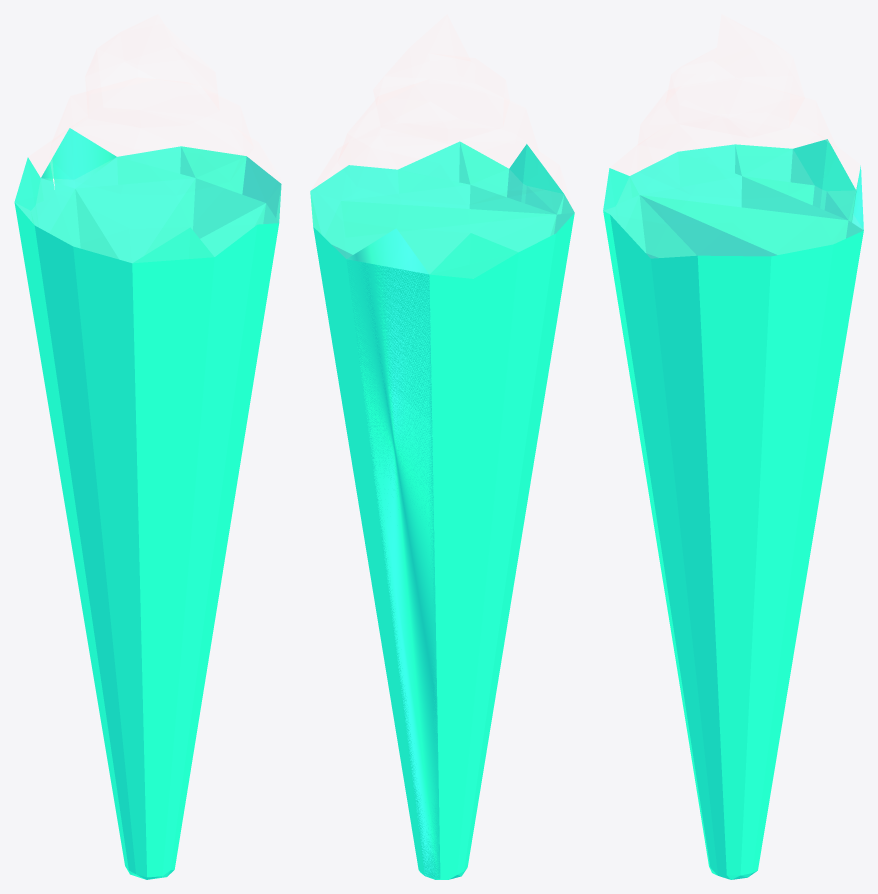
File: poop.glb
3 views of the same model, side by side, from view 1: azimuth 30°, elevation 25°; view 2: azimuth 150°, elevation 25°; view 3: azimuth 270°, elevation 25° (orthographic).
Visible parts, largest first — view 1: tripo_node_a67c7aa9-a673-47f9-9f95-71bdb4c65f6e; view 2: tripo_node_a67c7aa9-a673-47f9-9f95-71bdb4c65f6e; view 3: tripo_node_a67c7aa9-a673-47f9-9f95-71bdb4c65f6e.
Boxes of the visible parts, x1=… form: tripo_node_a67c7aa9-a673-47f9-9f95-71bdb4c65f6e: x1=14, y1=15, x2=281, y2=879; tripo_node_a67c7aa9-a673-47f9-9f95-71bdb4c65f6e: x1=310, y1=15, x2=574, y2=879; tripo_node_a67c7aa9-a673-47f9-9f95-71bdb4c65f6e: x1=603, y1=15, x2=863, y2=879.
Bounding box in the file's own units: 1.03 × 3.68 × 1.02.
2 materials, 1 textured.
